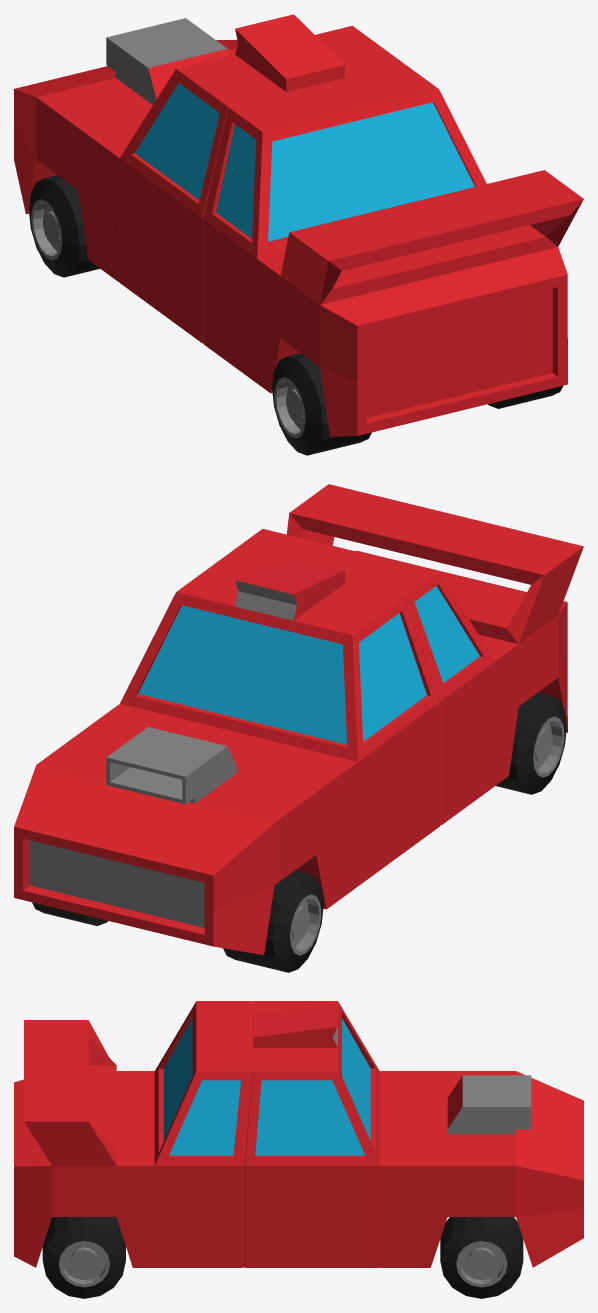
Rendered from QuickCar.fbx.
The picture shows the model from 3 angles, top to bottom: view 1: azimuth 30°, elevation 25°; view 2: azimuth 150°, elevation 25°; view 3: azimuth 270°, elevation 25°; orthographic projection. The views are drawn at different scales.
Parts seen in each view (by area): view 1: Cube, Cylinder.003, Cylinder.002; view 2: Cube, Cylinder.002, Cylinder.003; view 3: Cube, Cylinder.001, Cylinder.
Boxes of the visible parts, bbox=[...] form: Cube: bbox=[14, 14, 583, 436]; Cylinder.003: bbox=[272, 353, 371, 455]; Cylinder.002: bbox=[28, 175, 99, 277]; Cube: bbox=[14, 484, 583, 954]; Cylinder.002: bbox=[223, 870, 323, 972]; Cylinder.003: bbox=[496, 692, 566, 794]; Cube: bbox=[14, 1001, 583, 1267]; Cylinder.001: bbox=[440, 1217, 523, 1298]; Cylinder: bbox=[42, 1217, 125, 1298].
Bounding box in the file's own units: 218 × 231 × 507.
